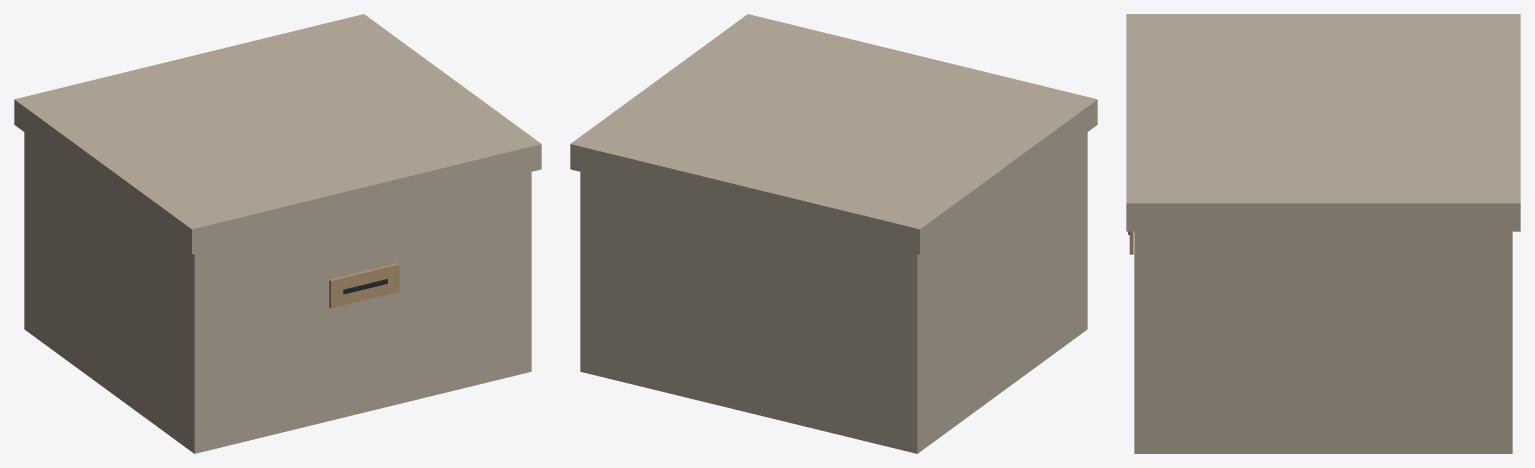
Rendered from box-linen-lightweight-75f3863a0f.glb.
3 views of the same model, side by side, from view 1: azimuth 30°, elevation 25°; view 2: azimuth 150°, elevation 25°; view 3: azimuth 270°, elevation 25° (orthographic). The views are drawn at different scales.
Parts seen in each view (by area): view 1: textile, oak; view 2: textile; view 3: textile.
Boxes of the visible parts, x1=… form: textile: x1=14, y1=14, x2=541, y2=453; oak: x1=329, y1=263, x2=399, y2=308; textile: x1=570, y1=14, x2=1097, y2=453; textile: x1=1126, y1=14, x2=1520, y2=453.
Size of the model in its own units: 0.332 by 0.2075 by 0.292.
